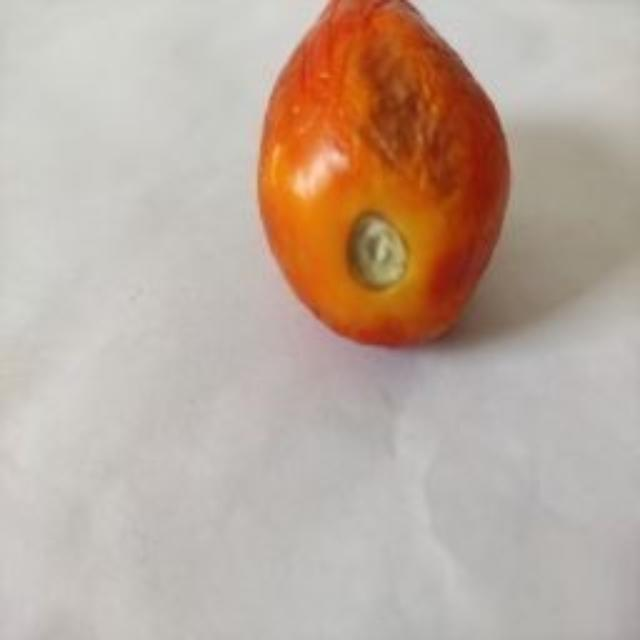defect: (252, 0, 518, 359)
